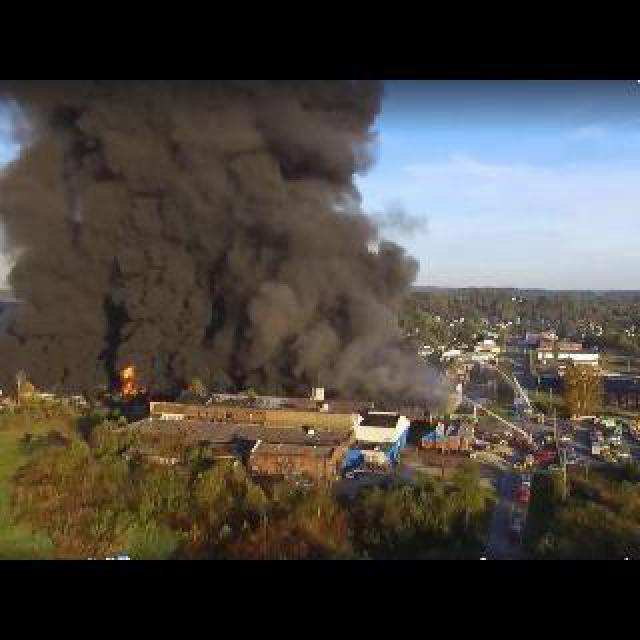Fire: (114, 360, 148, 398)
Smoke: (6, 80, 412, 388)
